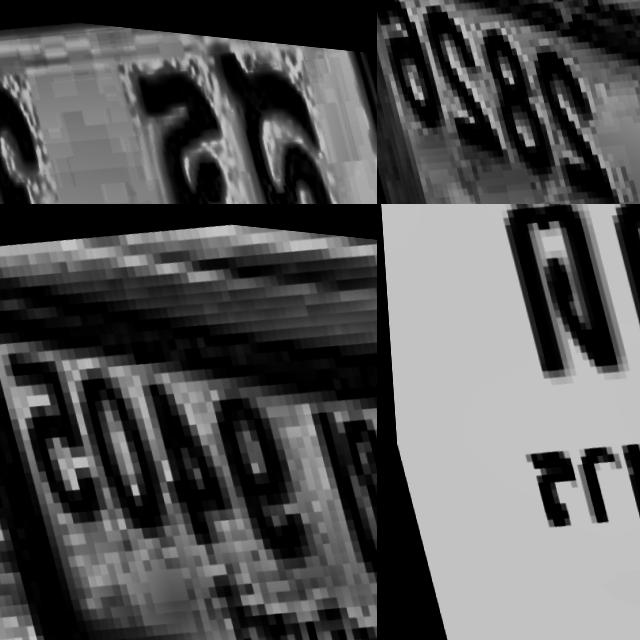license-plate: (0, 204, 377, 640), (377, 204, 640, 640), (0, 0, 377, 204), (377, 0, 640, 204)
